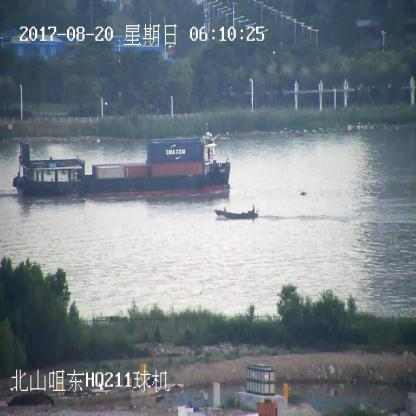Fishing Boat: (215, 204, 258, 220)
